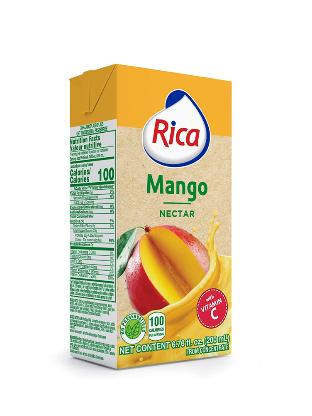Others: (64, 62, 236, 372)
